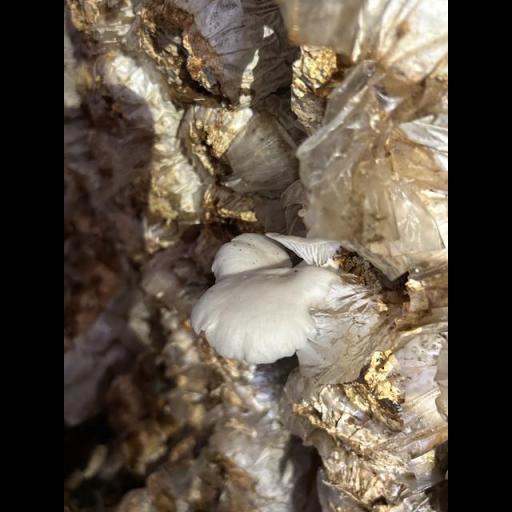White Oyster Mushroom: (191, 232, 364, 364)
